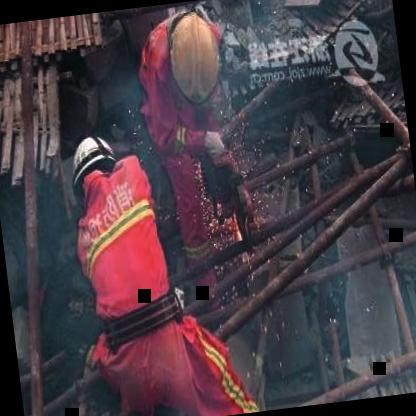helmet: (155, 14, 226, 112), (67, 130, 124, 206)
